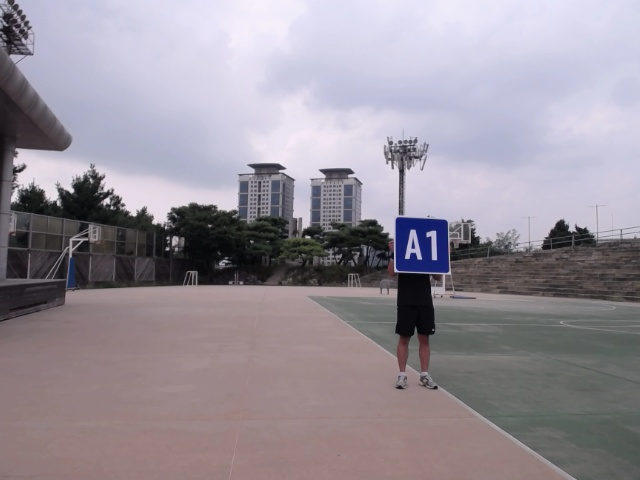delivery_a1: (394, 216, 450, 274)
